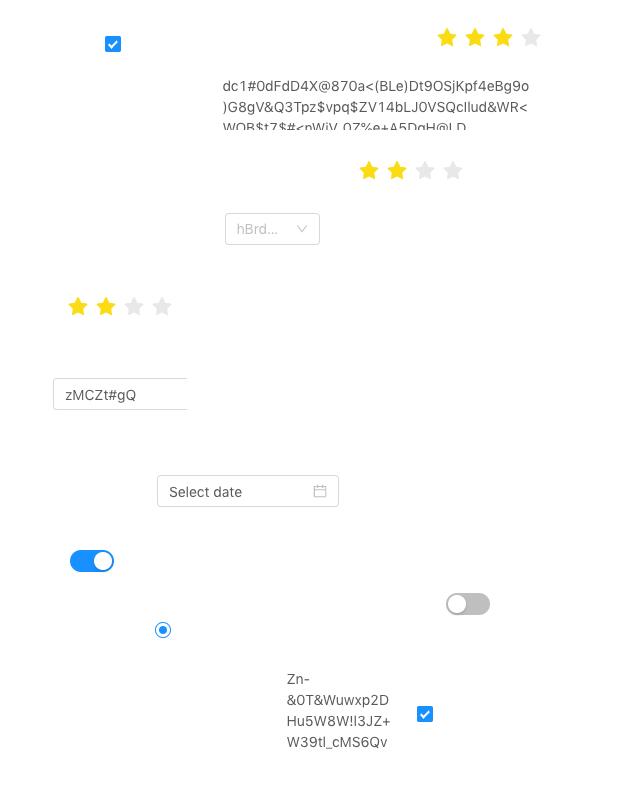Checkbox: (417, 703, 433, 724), (105, 33, 121, 54)
DatePicker: (157, 475, 339, 507)
Input: (53, 378, 187, 410)
Radio: (155, 619, 171, 639)
Rate: (68, 290, 188, 322), (437, 21, 557, 53), (359, 154, 479, 186)
Select: (225, 213, 320, 245)
Switch: (446, 592, 490, 616), (70, 549, 114, 573)
Text: (223, 75, 534, 130), (287, 668, 396, 749)
